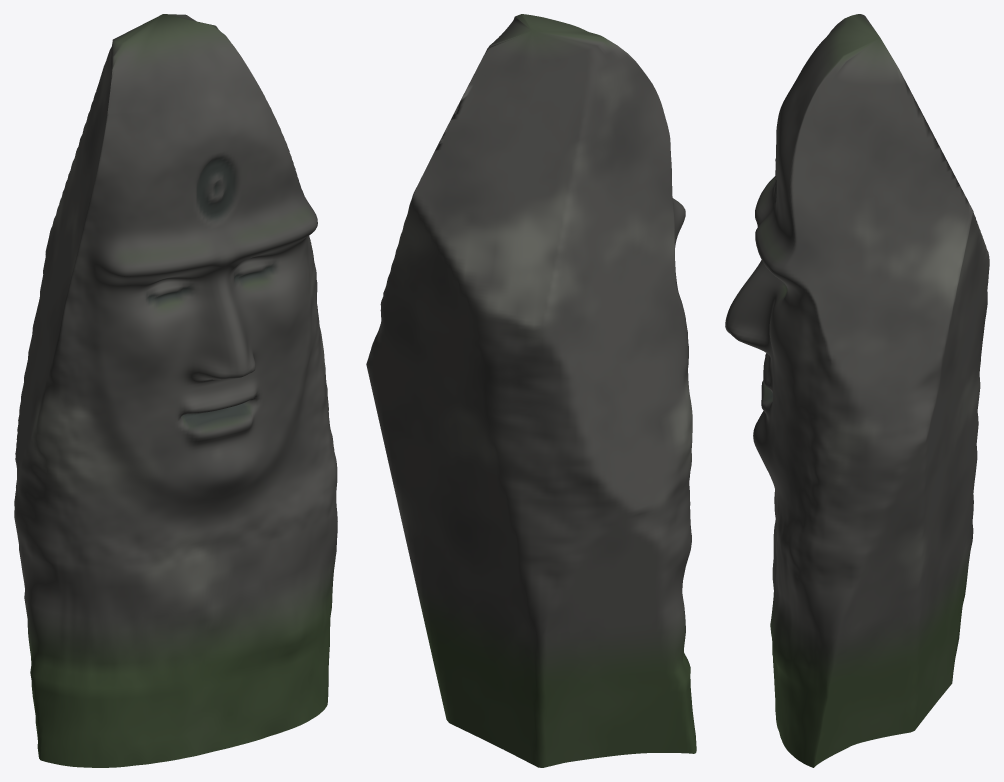
File: stoneface.glb
The picture shows the model from 3 angles, left to right: view 1: azimuth 30°, elevation 25°; view 2: azimuth 150°, elevation 25°; view 3: azimuth 270°, elevation 25°; orthographic projection. The views are drawn at different scales.
Visible parts, largest first — view 1: stone; view 2: stone; view 3: stone.
Part boxes in pixels (box(x1,y1,x2,y2)): stone: box(14, 14, 337, 767); stone: box(366, 14, 696, 767); stone: box(725, 14, 989, 767).
Size of the model in its own units: 11.08 by 24.96 by 8.94.
